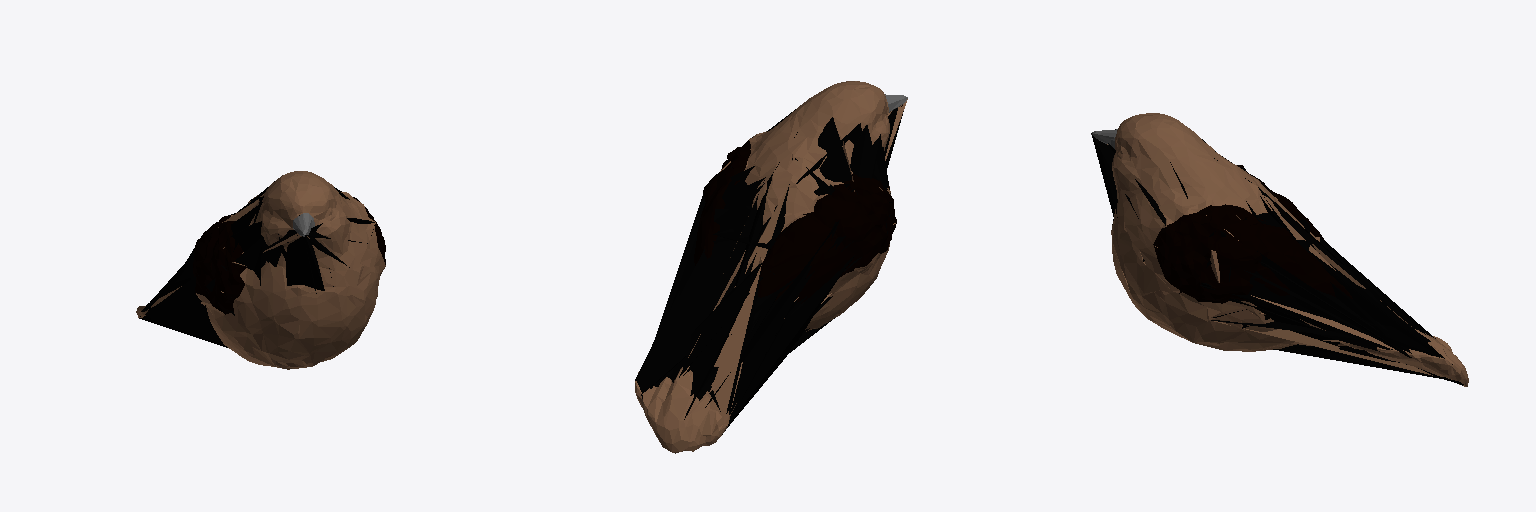
Rendered from Sparrow.obj.
3 views of the same model, side by side, from view 1: azimuth 30°, elevation 25°; view 2: azimuth 150°, elevation 25°; view 3: azimuth 270°, elevation 25° (orthographic).
Parts seen in each view (by area): view 1: Sparrow001, Sphere004; view 2: Sparrow001, Sphere004, Line006; view 3: Sparrow001, Sphere004, Line006.
Part boxes in pixels (x1,y1,x2,y2): Sparrow001: (136,171,385,369); Sphere004: (139,181,374,347); Sparrow001: (635,81,907,453); Sphere004: (635,105,903,434); Line006: (685,99,907,418); Sparrow001: (1091,113,1468,386); Sphere004: (1091,129,1463,385); Line006: (1107,144,1432,375).
Size of the model in its own units: 77.79 by 112 by 149.